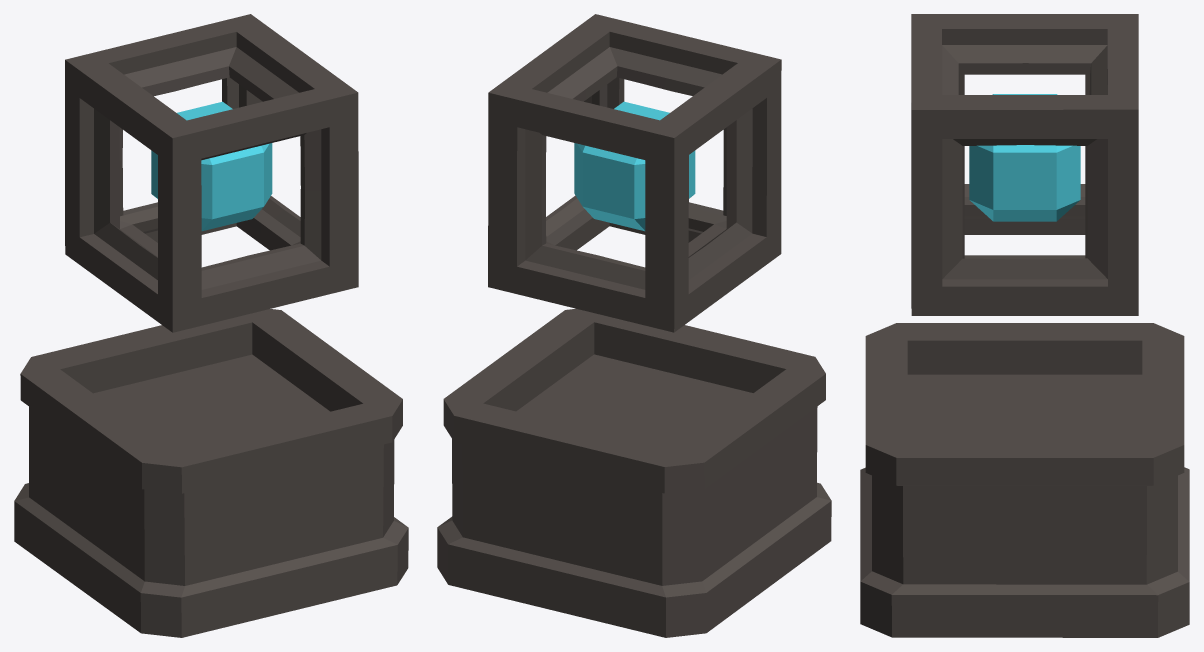
File: Button.fbx
3 views of the same model, side by side, from view 1: azimuth 30°, elevation 25°; view 2: azimuth 150°, elevation 25°; view 3: azimuth 270°, elevation 25° (orthographic). The views are drawn at different scales.
Visible parts, largest first — view 1: Base, Outer shell, Core; view 2: Base, Outer shell, Core; view 3: Base, Outer shell, Core.
Boxes of the visible parts, x1=… form: Base: x1=14, y1=309, x2=408, y2=637; Outer shell: x1=65, y1=14, x2=358, y2=332; Core: x1=151, y1=101, x2=272, y2=231; Base: x1=437, y1=308, x2=831, y2=637; Outer shell: x1=488, y1=14, x2=781, y2=332; Core: x1=574, y1=101, x2=695, y2=231; Base: x1=860, y1=323, x2=1189, y2=637; Outer shell: x1=911, y1=14, x2=1138, y2=315; Core: x1=969, y1=94, x2=1080, y2=221.
Bounding box in the file's own units: 206 × 351 × 206.
